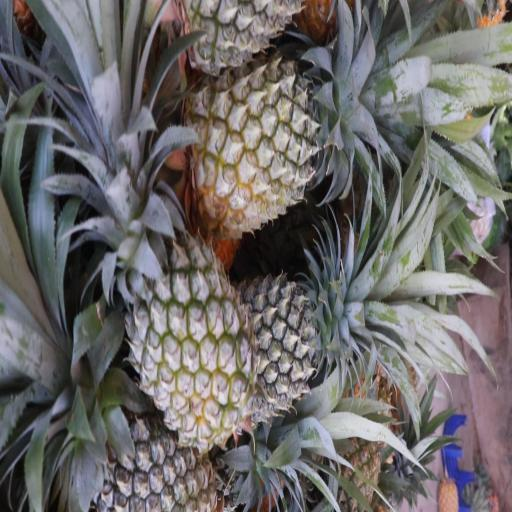------------------------------: (122, 215, 254, 445), (192, 66, 362, 221)
